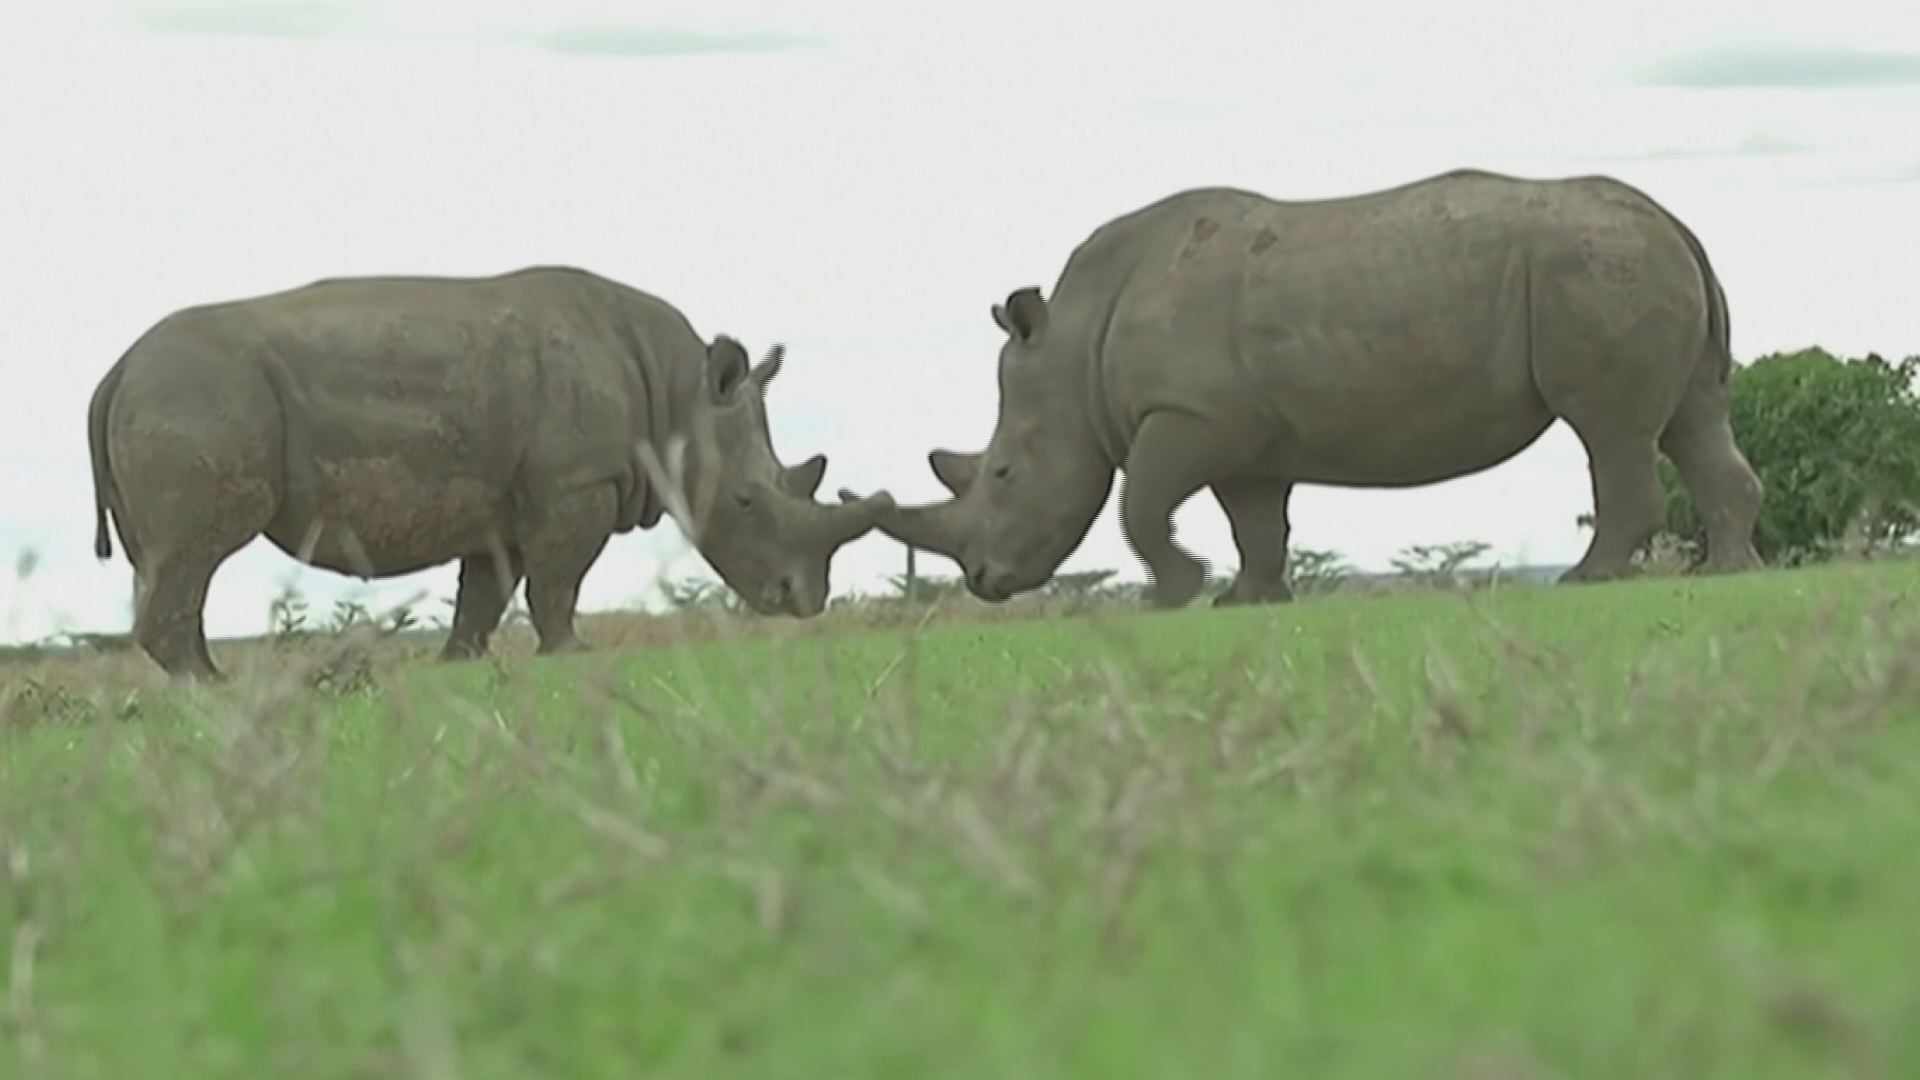Rhinoceros: (855, 121, 1797, 601)
